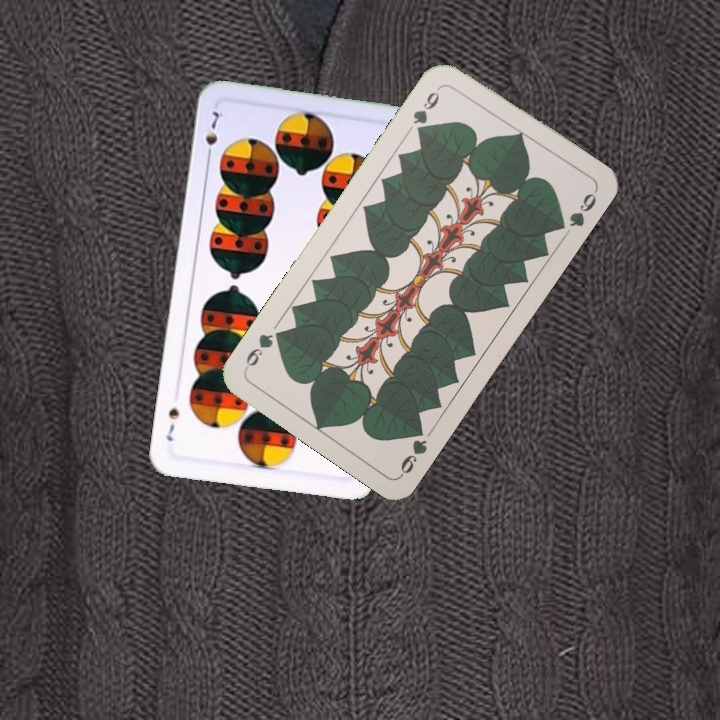G9: (408, 82, 445, 138), (396, 420, 430, 479)
S7: (201, 107, 226, 163)
